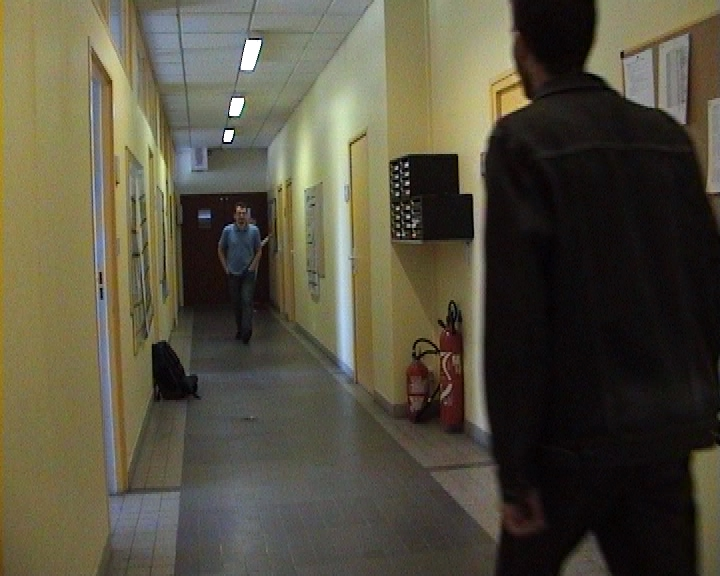leave bag unattended: (134, 321, 220, 417)
